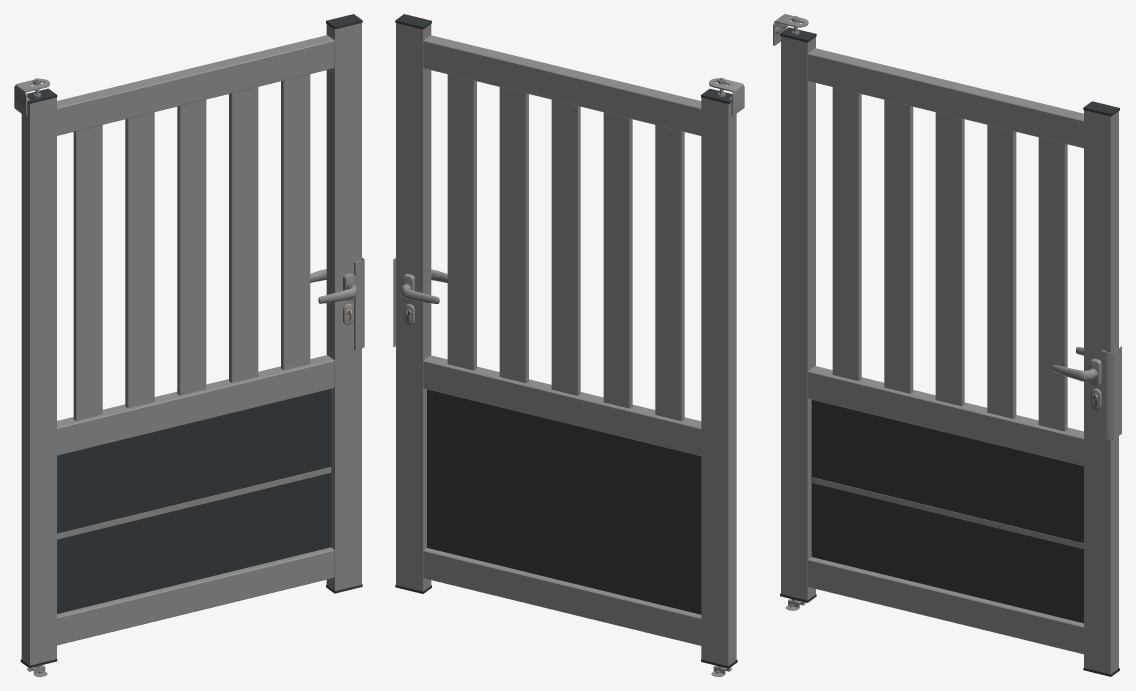
The picture shows the model from 3 angles, left to right: view 1: azimuth 30°, elevation 25°; view 2: azimuth 150°, elevation 25°; view 3: azimuth 330°, elevation 25°; orthographic projection.
Visible parts, largest first — view 1: Chapa Alucobond030, Shape107412643, Shape107412638, Shape107412712, travessa_central_ladoA001, Shape107412711, travessaDecor_Cleveland_029, travessaDecor_Cleveland_026, travessaDecor_Cleveland_028, travessaDecor_Cleveland_027, travessaDecor_Cleveland_023, Rectangle051 (+2 smaller); view 2: Chapa Alucobond030, Shape107412643, Shape107412638, Shape107412712, travessa_central_ladoA001, Shape107412711, travessaDecor_Cleveland_027, travessaDecor_Cleveland_029, travessaDecor_Cleveland_028, travessaDecor_Cleveland_023, travessaDecor_Cleveland_026, Rectangle057; view 3: Chapa Alucobond030, Shape107412643, Shape107412638, Shape107412712, travessa_central_ladoA001, Shape107412711, travessaDecor_Cleveland_027, travessaDecor_Cleveland_023, travessaDecor_Cleveland_026, travessaDecor_Cleveland_028, travessaDecor_Cleveland_029, Shape107412637 (+1 smaller).
Boxes of the visible parts, bbox=[...] form: Chapa Alucobond030: bbox=[57, 389, 330, 613]; Shape107412643: bbox=[21, 97, 56, 665]; Shape107412638: bbox=[326, 23, 361, 590]; Shape107412712: bbox=[57, 35, 334, 135]; travessa_central_ladoA001: bbox=[57, 355, 334, 455]; Shape107412711: bbox=[57, 547, 334, 645]; travessaDecor_Cleveland_029: bbox=[281, 74, 310, 370]; travessaDecor_Cleveland_026: bbox=[125, 112, 154, 408]; travessaDecor_Cleveland_028: bbox=[229, 87, 258, 382]; travessaDecor_Cleveland_027: bbox=[177, 99, 206, 395]; travessaDecor_Cleveland_023: bbox=[73, 125, 102, 420]; Rectangle051: bbox=[57, 467, 331, 539]; Chapa Alucobond030: bbox=[427, 389, 701, 614]; Shape107412643: bbox=[701, 97, 736, 665]; Shape107412638: bbox=[396, 23, 431, 591]; Shape107412712: bbox=[423, 35, 701, 135]; travessa_central_ladoA001: bbox=[423, 355, 701, 455]; Shape107412711: bbox=[423, 548, 701, 645]; travessaDecor_Cleveland_027: bbox=[551, 99, 580, 395]; travessaDecor_Cleveland_029: bbox=[447, 74, 476, 370]; travessaDecor_Cleveland_028: bbox=[499, 87, 528, 383]; travessaDecor_Cleveland_023: bbox=[655, 125, 684, 421]; travessaDecor_Cleveland_026: bbox=[603, 112, 632, 408]; Rectangle057: bbox=[709, 78, 744, 115]; Chapa Alucobond030: bbox=[811, 400, 1083, 623]; Shape107412643: bbox=[781, 36, 815, 600]; Shape107412638: bbox=[1084, 110, 1118, 674]; Shape107412712: bbox=[808, 48, 1083, 148]; travessa_central_ladoA001: bbox=[808, 366, 1083, 465]; Shape107412711: bbox=[808, 557, 1083, 654]; travessaDecor_Cleveland_027: bbox=[935, 112, 964, 406]; travessaDecor_Cleveland_023: bbox=[832, 87, 861, 381]; travessaDecor_Cleveland_026: bbox=[884, 99, 913, 393]; travessaDecor_Cleveland_028: bbox=[987, 125, 1016, 418]; travessaDecor_Cleveland_029: bbox=[1038, 137, 1067, 431]; Shape107412637: bbox=[1101, 346, 1121, 439].
Size of the model in its own units: 1015 by 1688 by 152.
Materials: 7 (4 with a texture image).
